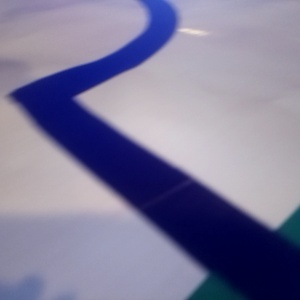bottom_right: (1, 59, 12, 96)
top_right: (1, 175, 191, 300)
